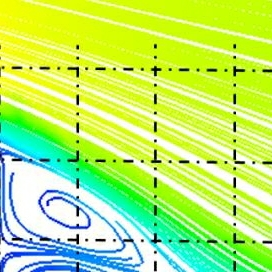vortox: (1, 165, 143, 261)
